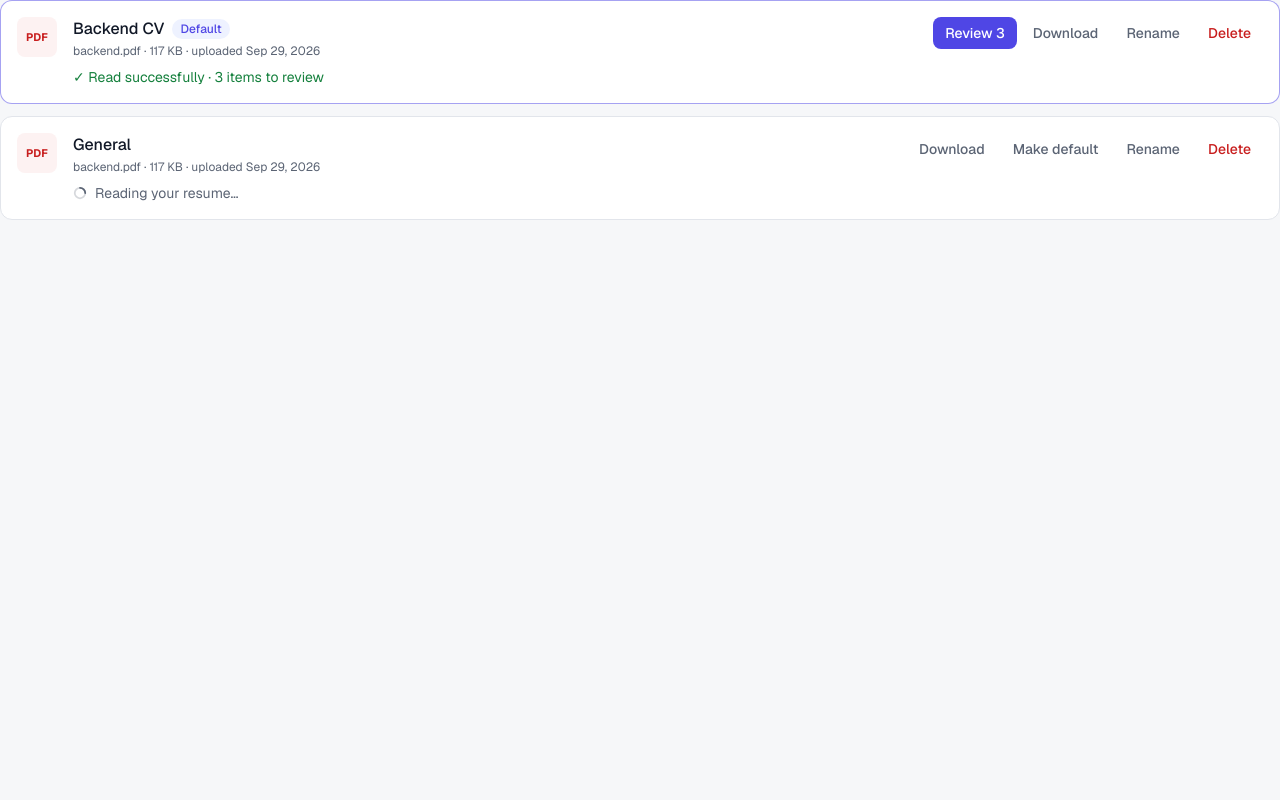
Scenario: ResumeList › shows parsing progress, results and review entry points
Expected: the text "Default" is shown, [172, 19, 230, 39]
Expected: the text "✓ Read successfully · 3 items to review" is shown, [73, 68, 324, 86]
What coordinates should you click on to do the following:
click the button "Review 3"
I would click on:
 (975, 33)
Its box is [933, 17, 1017, 49].
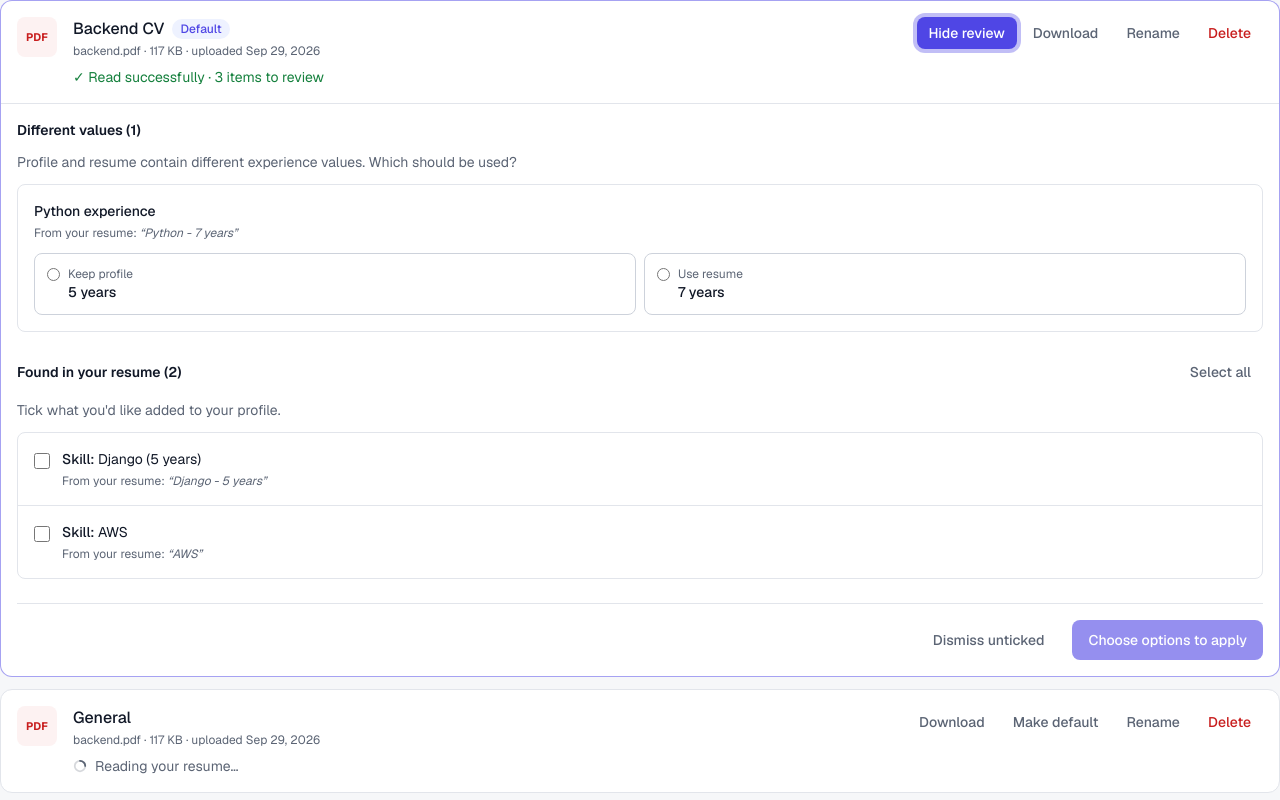
Result: the text "Profile and resume contain different experience values. Which should be used?" is shown at [17, 153, 517, 171]
